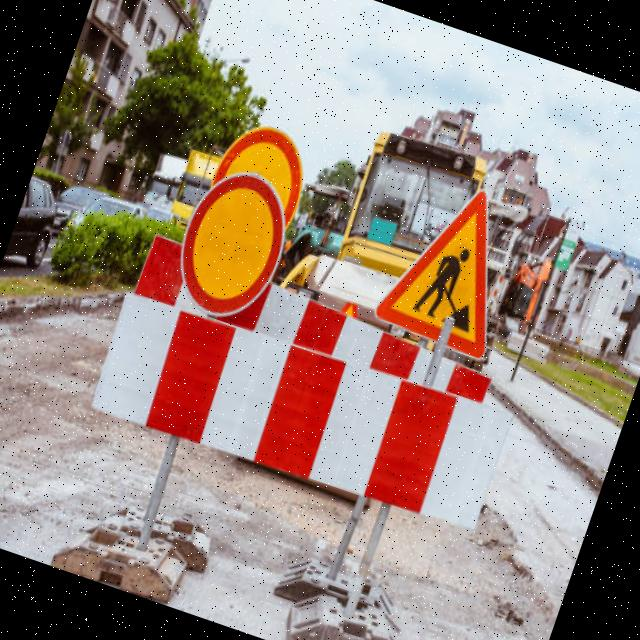road_work: (373, 168, 534, 358)
